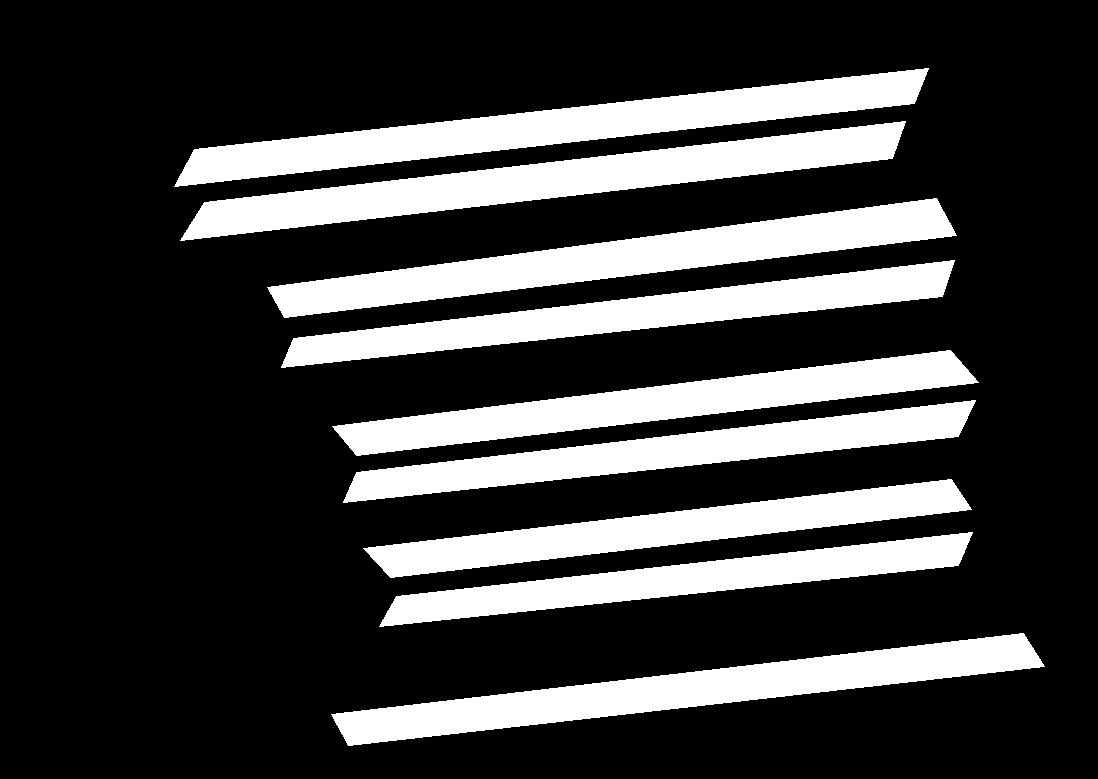parkingspot: (174, 68, 928, 186), (179, 120, 905, 240), (266, 198, 956, 317), (330, 633, 1044, 745), (280, 260, 954, 367), (331, 349, 978, 455), (342, 399, 975, 502), (362, 478, 971, 577), (378, 531, 972, 626)
